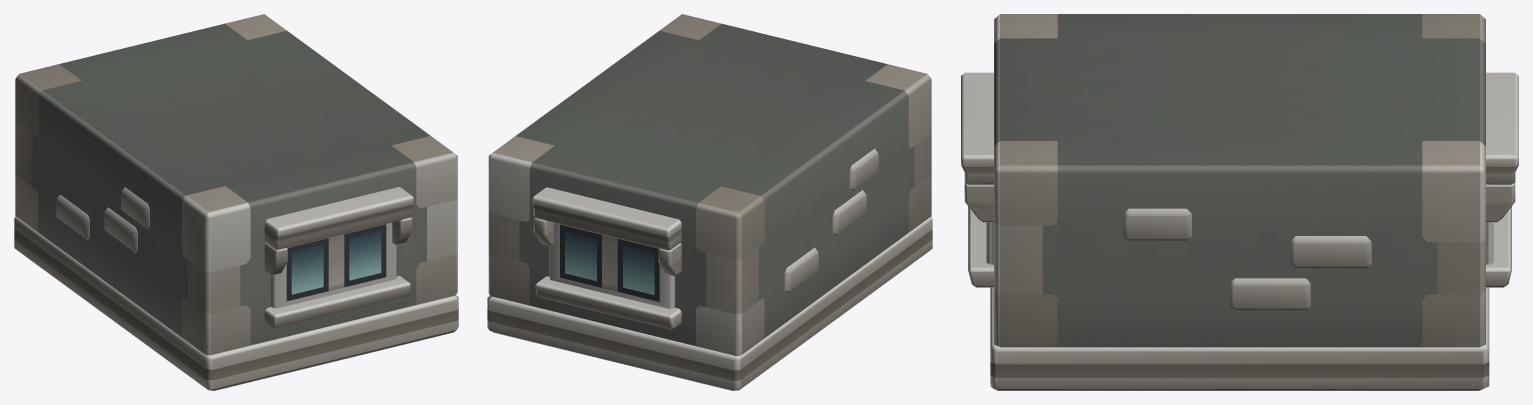
The model's file is appartment_type3_element_grey.fbx.
The picture shows the model from 3 angles, left to right: view 1: azimuth 30°, elevation 25°; view 2: azimuth 150°, elevation 25°; view 3: azimuth 270°, elevation 25°; orthographic projection. The views are drawn at different scales.
Parts seen in each view (by area): view 1: appartment_type3_element_grey; view 2: appartment_type3_element_grey; view 3: appartment_type3_element_grey.
Part boxes in pixels (box(x1,y1,x2,y2)): appartment_type3_element_grey: box(14, 14, 458, 390); appartment_type3_element_grey: box(487, 14, 932, 390); appartment_type3_element_grey: box(961, 14, 1518, 390).
Bounding box in the file's own units: 628 × 409 × 918.
